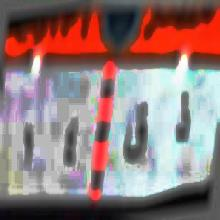1: (21, 113, 36, 177)
4: (60, 115, 81, 173)
qaaf: (123, 94, 152, 174)
zaal: (170, 85, 193, 150)
